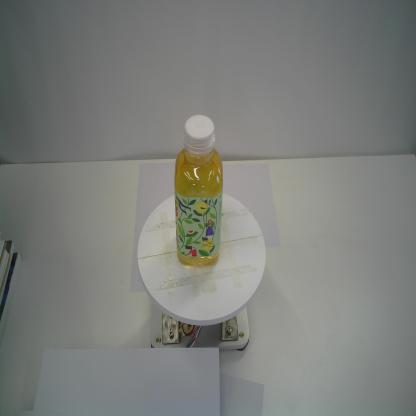Drink: (174, 113, 224, 268)
